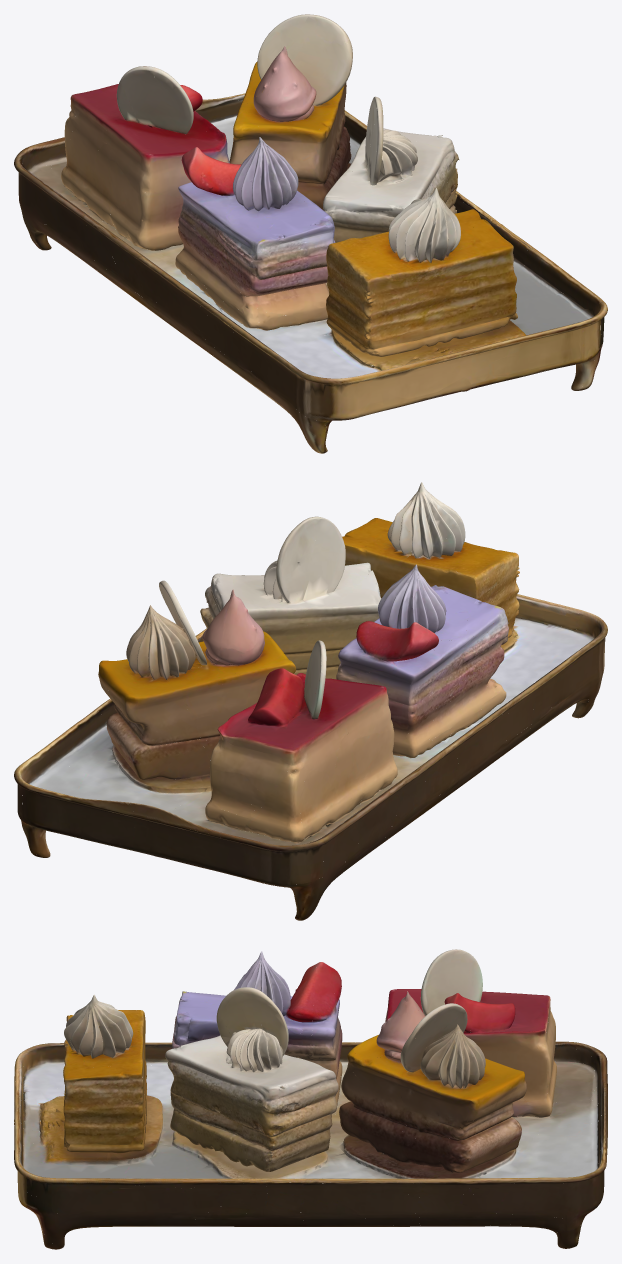
File: des_assorti.glb
3 renders of one model, top to bottom at view 1: azimuth 30°, elevation 25°; view 2: azimuth 150°, elevation 25°; view 3: azimuth 270°, elevation 25°, orthographic. The views are drawn at different scales.
Visible parts, largest first — view 1: tripo_node_162e48e1-e5de-4e82-812a-fb6f2574b0c9; view 2: tripo_node_162e48e1-e5de-4e82-812a-fb6f2574b0c9; view 3: tripo_node_162e48e1-e5de-4e82-812a-fb6f2574b0c9.
Part boxes in pixels (box(x1,y1,x2,y2)): tripo_node_162e48e1-e5de-4e82-812a-fb6f2574b0c9: box(14, 14, 607, 453); tripo_node_162e48e1-e5de-4e82-812a-fb6f2574b0c9: box(14, 482, 607, 920); tripo_node_162e48e1-e5de-4e82-812a-fb6f2574b0c9: box(14, 949, 607, 1249).
Size of the model in its own units: 0.5434 by 0.397 by 0.9814.
1 material, 1 textured.
